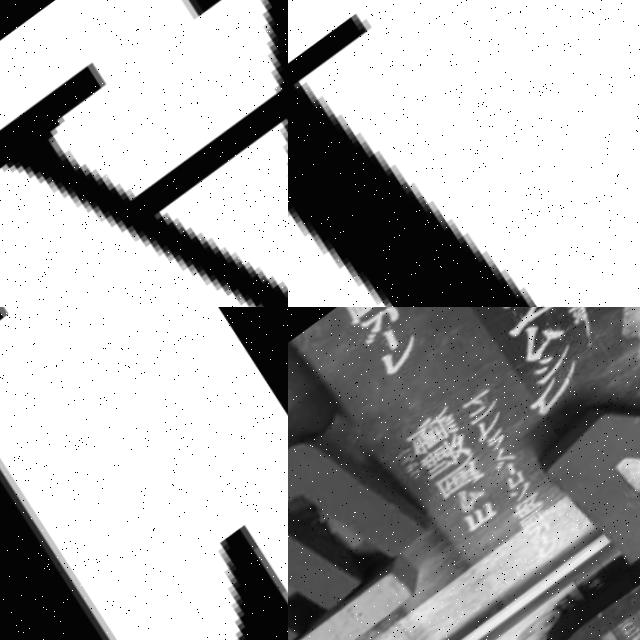A: (0, 0, 288, 307)
L: (288, 545, 497, 640)
T: (288, 0, 640, 307), (0, 307, 288, 640)
U: (526, 526, 640, 640)
V: (515, 329, 640, 602)
W: (288, 400, 445, 640)
